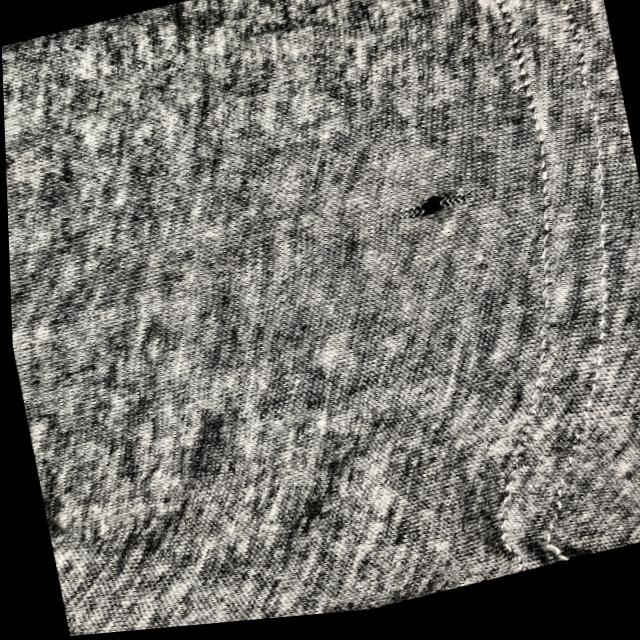Hole: (378, 174, 485, 241)
